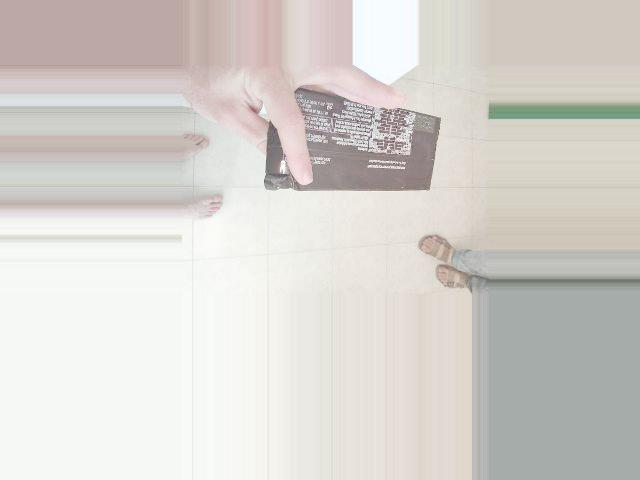chocolate: (279, 106, 388, 287)
